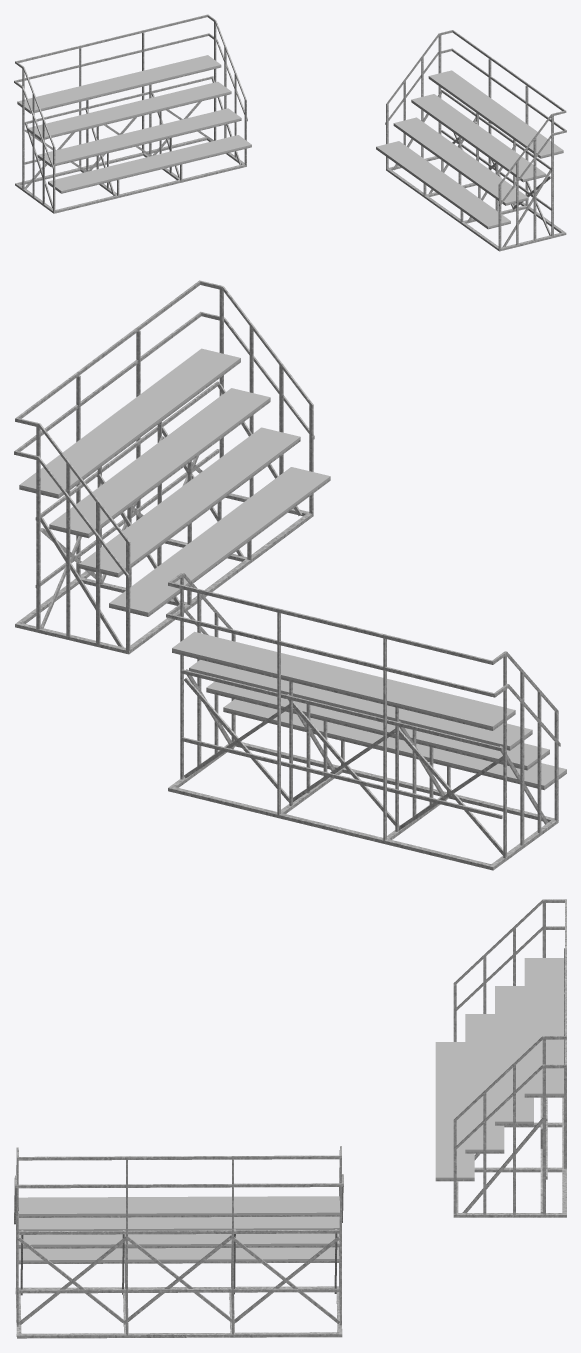
The model's file is butacas.obj.
3 renders of one model, top to bottom at view 1: azimuth 30°, elevation 25°; view 2: azimuth 150°, elevation 25°; view 3: azimuth 270°, elevation 25°, orthographic. The views are drawn at different scales.
Parts seen in each view (by area): view 1: asientos, asientos2, herreria, herreria2; view 2: asientos2, herreria, herreria2, asientos; view 3: asientos2, asientos, herreria2, herreria.
Boxes of the visible parts, <box> form: asientos: <box>17,55,251,192</box>; asientos2: <box>376,70,563,228</box>; herreria: <box>14,14,251,213</box>; herreria2: <box>376,30,566,251</box>; asientos2: <box>19,348,330,614</box>; herreria: <box>166,572,566,870</box>; herreria2: <box>14,280,330,654</box>; asientos: <box>172,631,566,788</box>; asientos2: <box>18,1196,339,1262</box>; asientos: <box>435,958,563,1179</box>; herreria2: <box>14,1146,343,1338</box>; herreria: <box>435,899,566,1217</box>.
Size of the model in its own units: 27.53 by 8.96 by 24.83.
